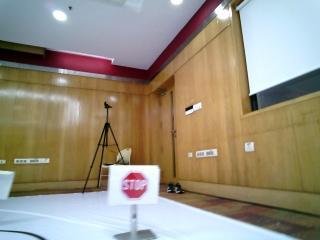stop: (107, 164, 157, 202)
